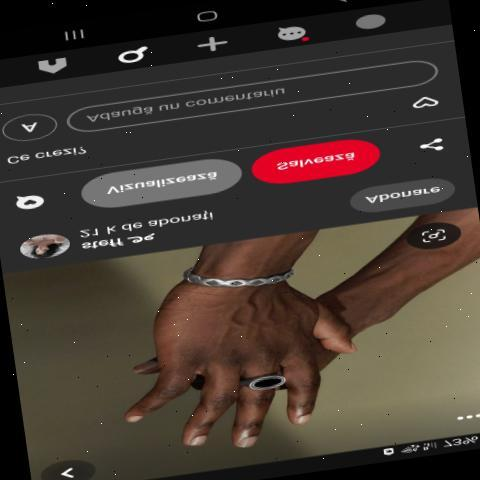Hands: (112, 257, 366, 472)
